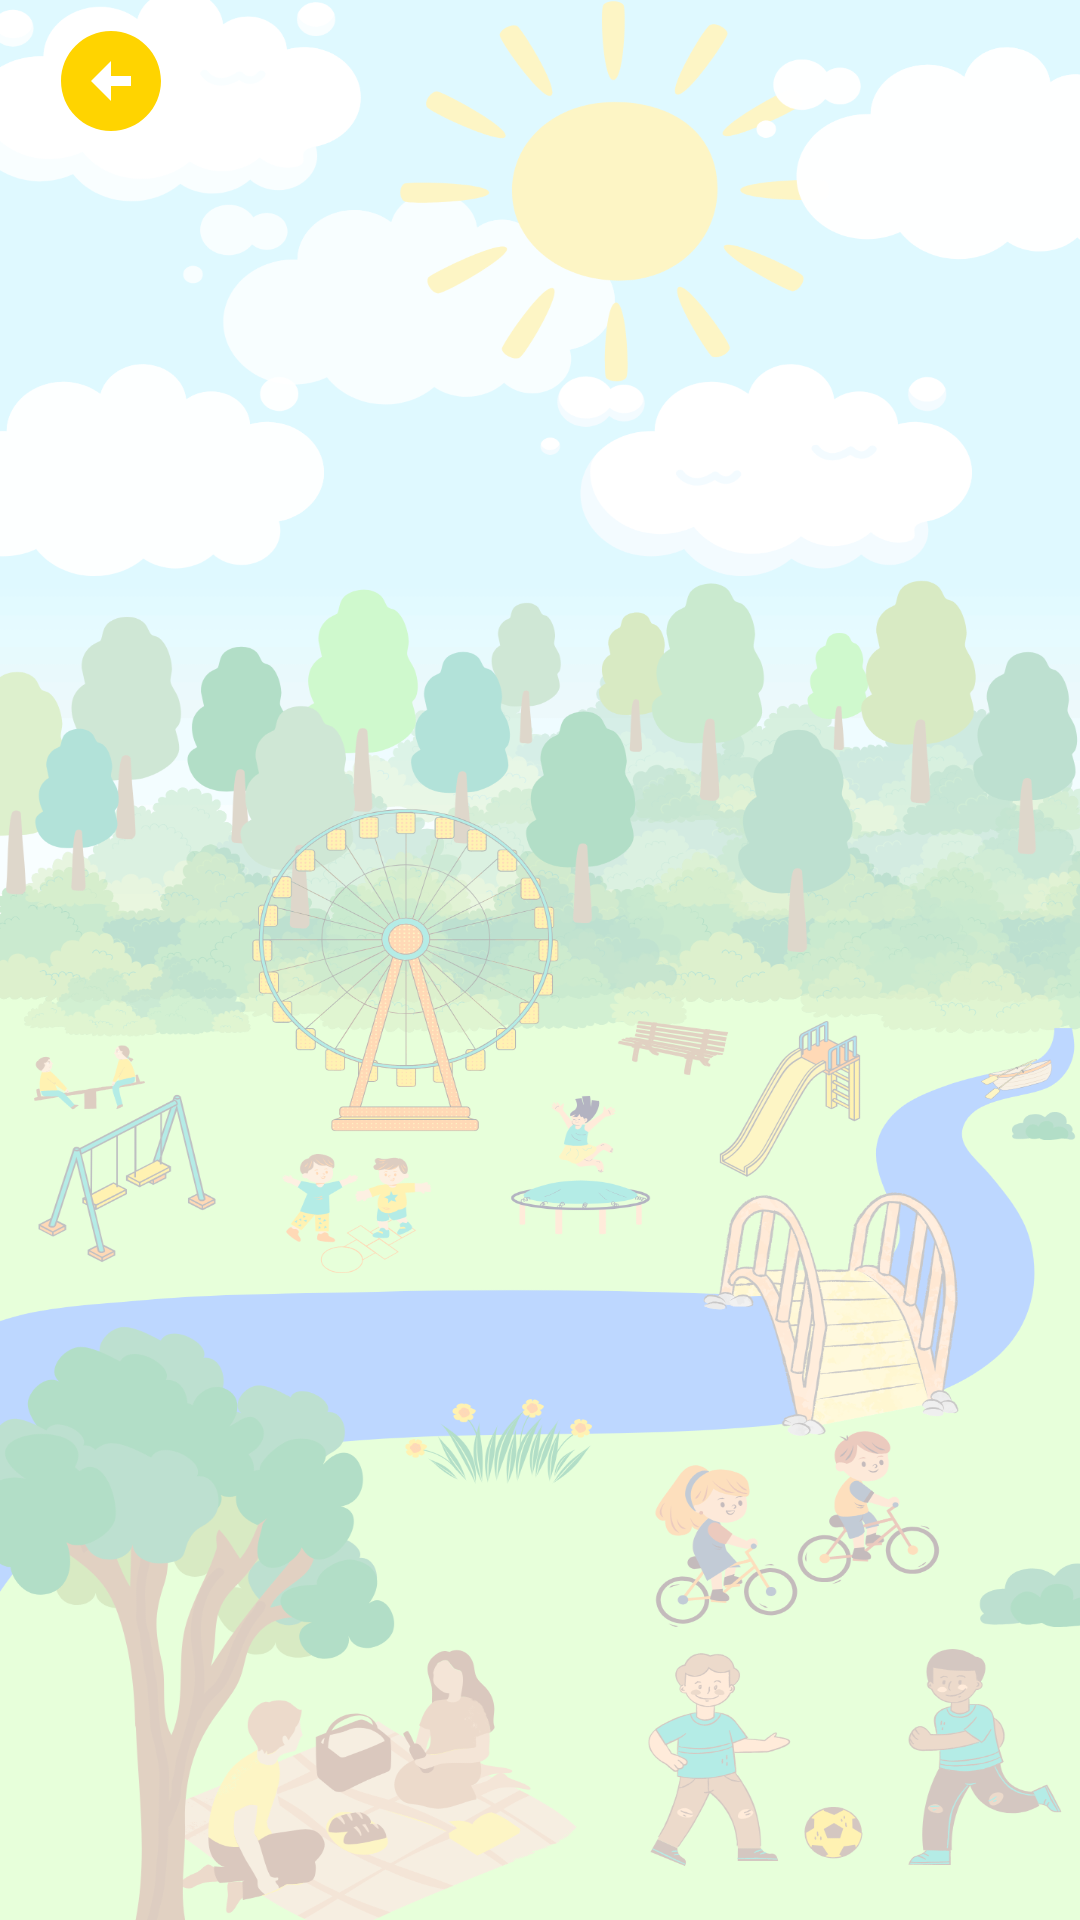

Icons on this 1080w x 1920h Android screen, each with the point to tap as (x=x, y=y):
Înapoi: (x=111, y=81)
